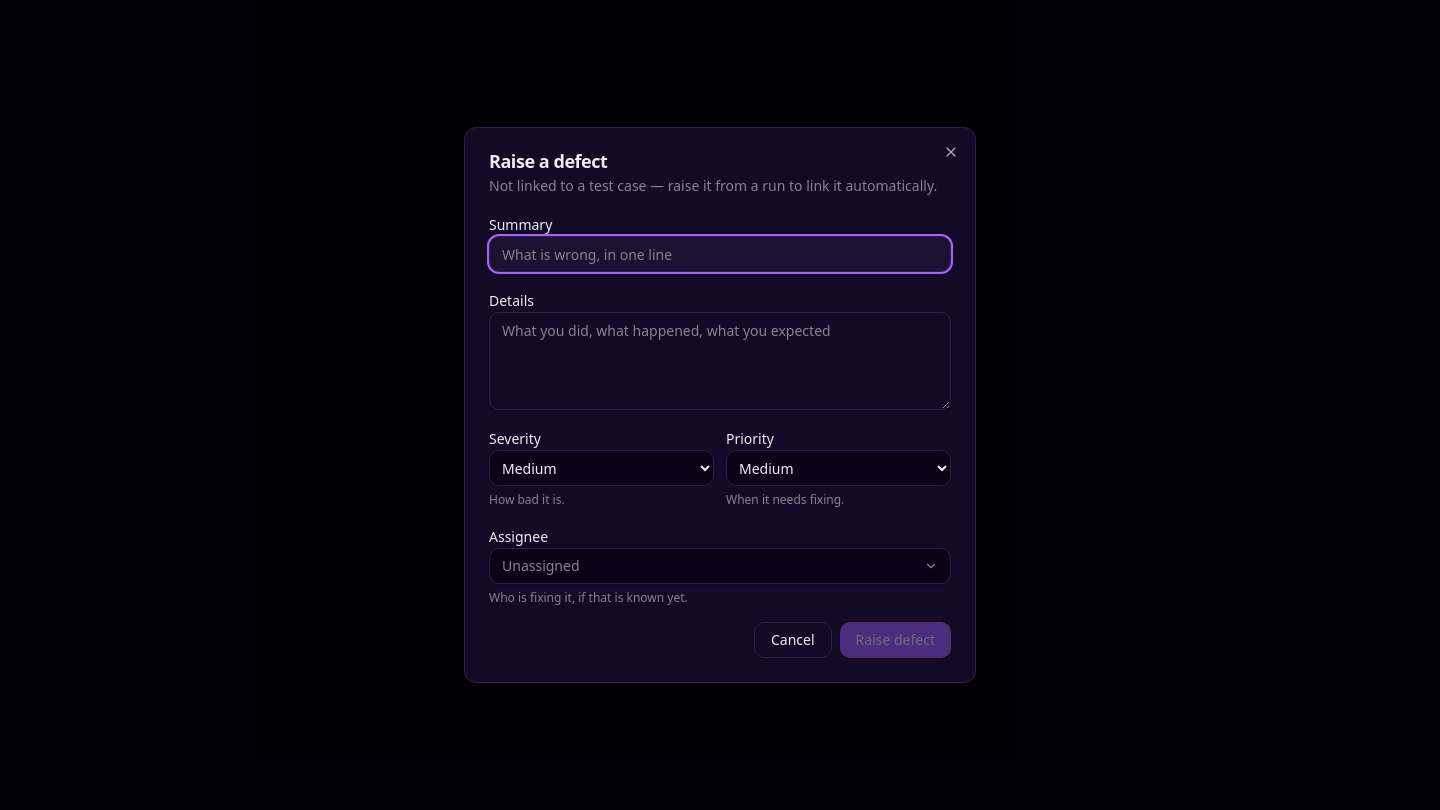
Test: the assignee can be set when the defect is raised › does not block reporting a defect nobody is assigned to yet
This screenshot has width=1440, height=810.
Type "Total is wrong" into the field labelled "Summary". click: [720, 254]
box: [489, 236, 951, 272]
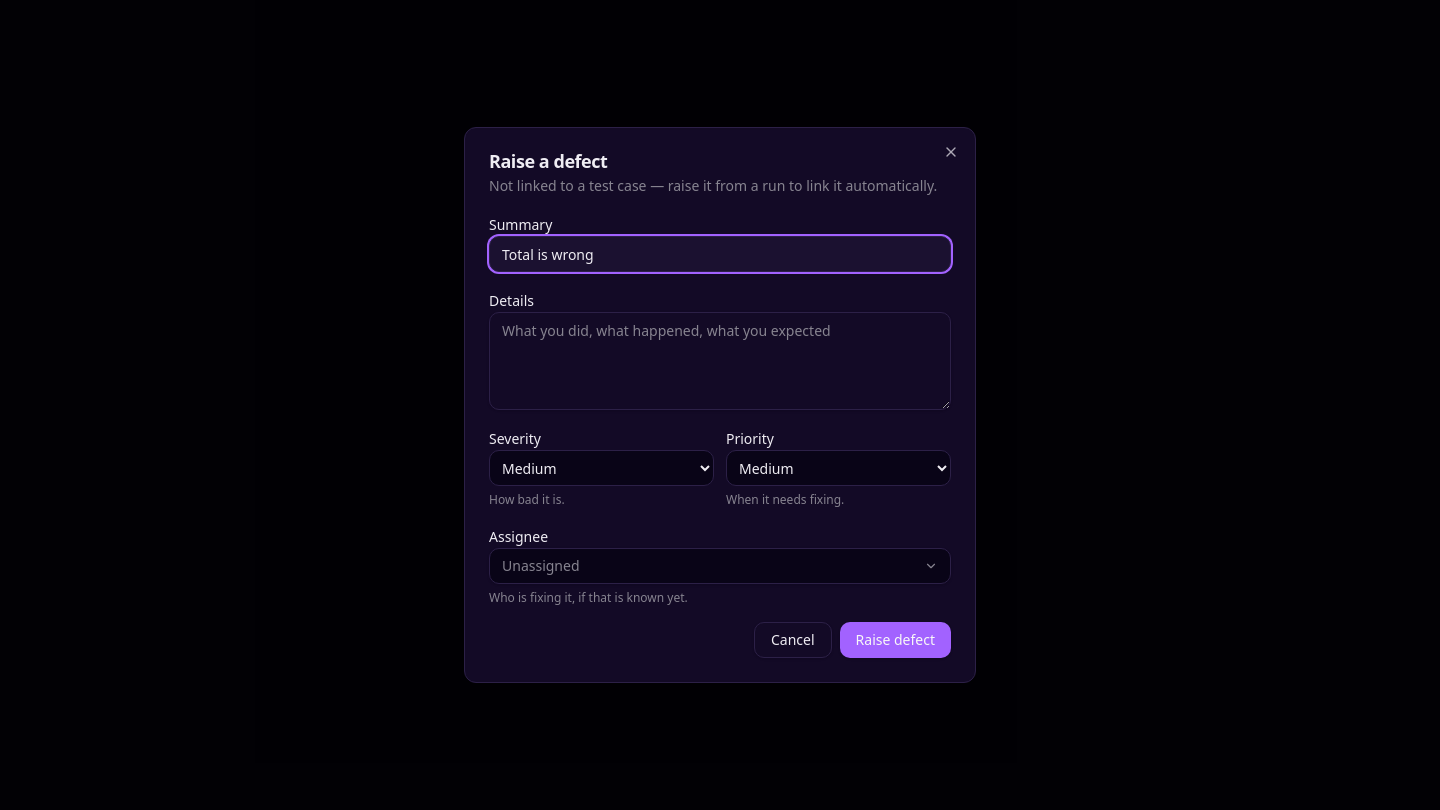
Expected: the button "Raise defect" is enabled, [840, 622, 951, 658]
